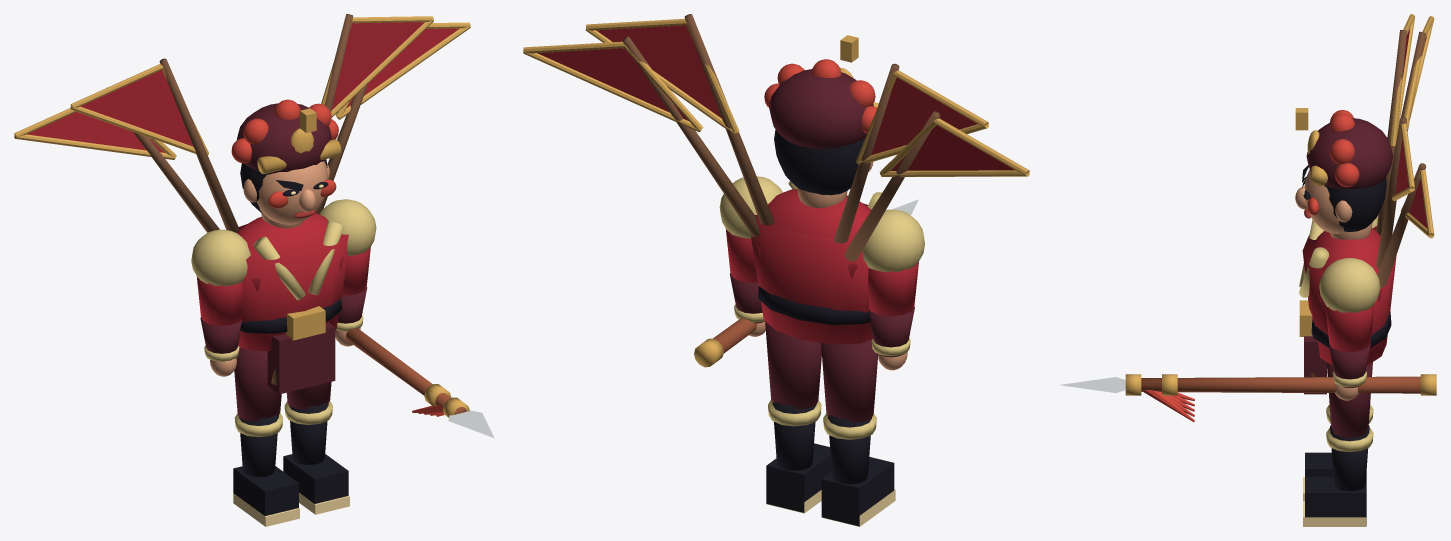
The model's file is gao.glb.
The picture shows the model from 3 angles, left to right: view 1: azimuth 30°, elevation 25°; view 2: azimuth 150°, elevation 25°; view 3: azimuth 270°, elevation 25°; orthographic projection. The views are drawn at different scales.
Visible parts, largest first — view 1: Cone.195, Embroidered pennant, Cube.206, Embroidered pennant.002, Sphere.054, Sphere.061, Cone.205, Sphere.040, Cube.208, Sphere.043, Embroidered pennant.001, Cube.210 (+29 smaller); view 2: Cone.195, Sphere.054, Embroidered pennant.002, Cone.205, Cone.220, Sphere.042, Embroidered pennant, Embroidered pennant.003, Cube.208, Sphere.061, Sphere.040, Embroidered pennant.001 (+26 smaller); view 3: Cone.211, Sphere.054, Sphere.063, Cone.195, Cube.210, Sphere.042, Cone.208, Cone.220, Sphere.040, Cone.221, Cone.231, Cone.235 (+17 smaller).
Part boxes in pixels (bbox=[...]): Cone.195: bbox=[238, 224, 348, 350]; Embroidered pennant: bbox=[80, 70, 192, 146]; Cube.206: bbox=[267, 322, 335, 394]; Embroidered pennant.002: bbox=[331, 22, 424, 110]; Sphere.054: bbox=[236, 103, 331, 173]; Sphere.061: bbox=[191, 229, 250, 286]; Cone.205: bbox=[234, 347, 281, 421]; Sphere.040: bbox=[236, 213, 343, 291]; Cube.208: bbox=[233, 466, 298, 515]; Sphere.043: bbox=[256, 161, 328, 224]; Embroidered pennant.001: bbox=[27, 112, 164, 152]; Cube.210: bbox=[283, 454, 348, 503]; Cone.195: bbox=[751, 203, 872, 344]; Sphere.054: bbox=[769, 69, 873, 148]; Embroidered pennant.002: bbox=[596, 25, 721, 118]; Cone.205: bbox=[821, 340, 877, 422]; Cone.220: bbox=[765, 321, 821, 409]; Sphere.042: bbox=[774, 129, 865, 195]; Embroidered pennant: bbox=[871, 77, 977, 154]; Embroidered pennant.003: bbox=[537, 48, 688, 120]; Cube.208: bbox=[821, 457, 894, 526]; Sphere.061: bbox=[862, 209, 924, 272]; Sphere.040: bbox=[755, 189, 871, 278]; Embroidered pennant.001: bbox=[891, 125, 1014, 170]; Cone.211: bbox=[1141, 376, 1420, 393]; Sphere.054: bbox=[1306, 118, 1392, 189]; Sphere.063: bbox=[1319, 258, 1380, 312]; Cone.195: bbox=[1302, 226, 1396, 365]; Cube.210: bbox=[1305, 476, 1366, 525]; Sphere.042: bbox=[1324, 177, 1386, 231]; Cone.208: bbox=[1325, 304, 1374, 352]; Cone.220: bbox=[1327, 362, 1372, 437]; Sphere.040: bbox=[1312, 228, 1382, 302]; Cone.221: bbox=[1330, 425, 1369, 491]; Cone.231: bbox=[1376, 117, 1406, 268]; Cone.235: bbox=[1377, 163, 1426, 287].
Bounding box in the file's own units: 2.92 × 2.72 × 2.15.
